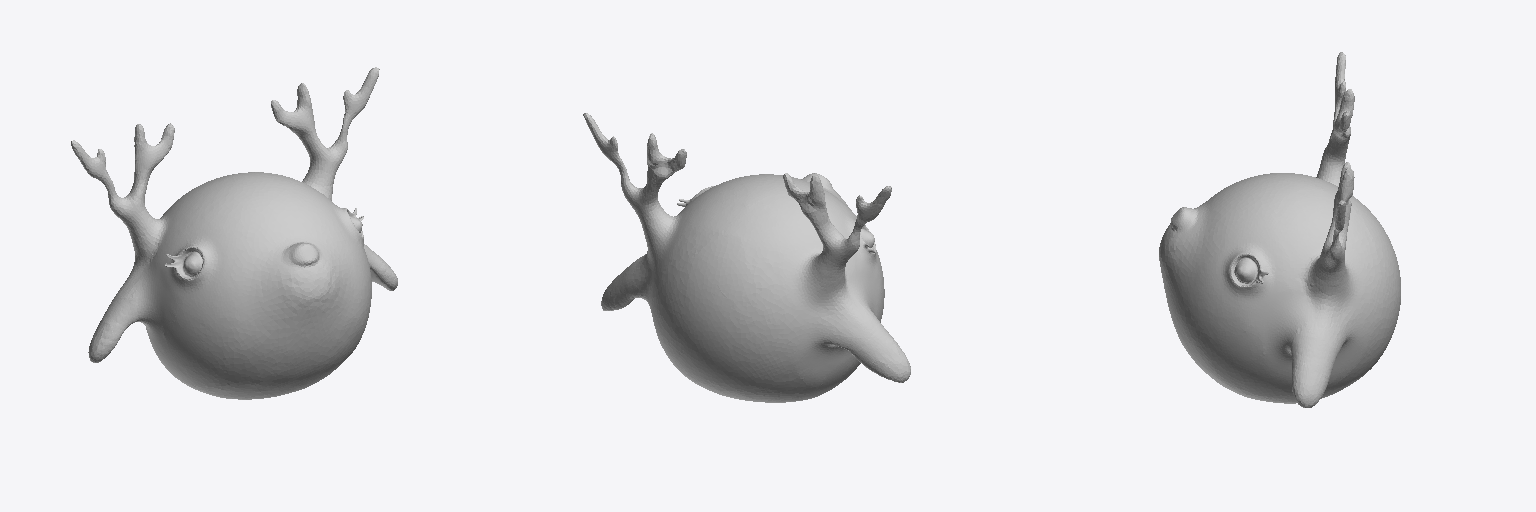
Rendered from mydeer.obj.
3 views of the same model, side by side, from view 1: azimuth 30°, elevation 25°; view 2: azimuth 150°, elevation 25°; view 3: azimuth 270°, elevation 25° (orthographic).
Bounding box in the file's own units: 3.02 × 2.43 × 2.06.